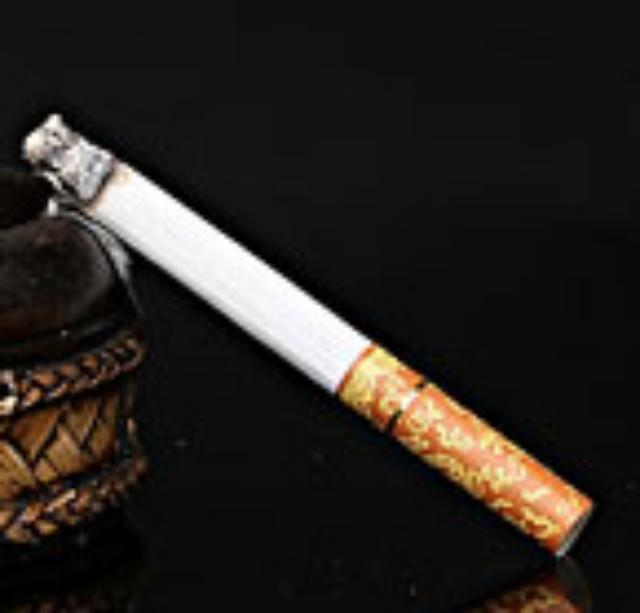Cigarette: (22, 109, 598, 556)
